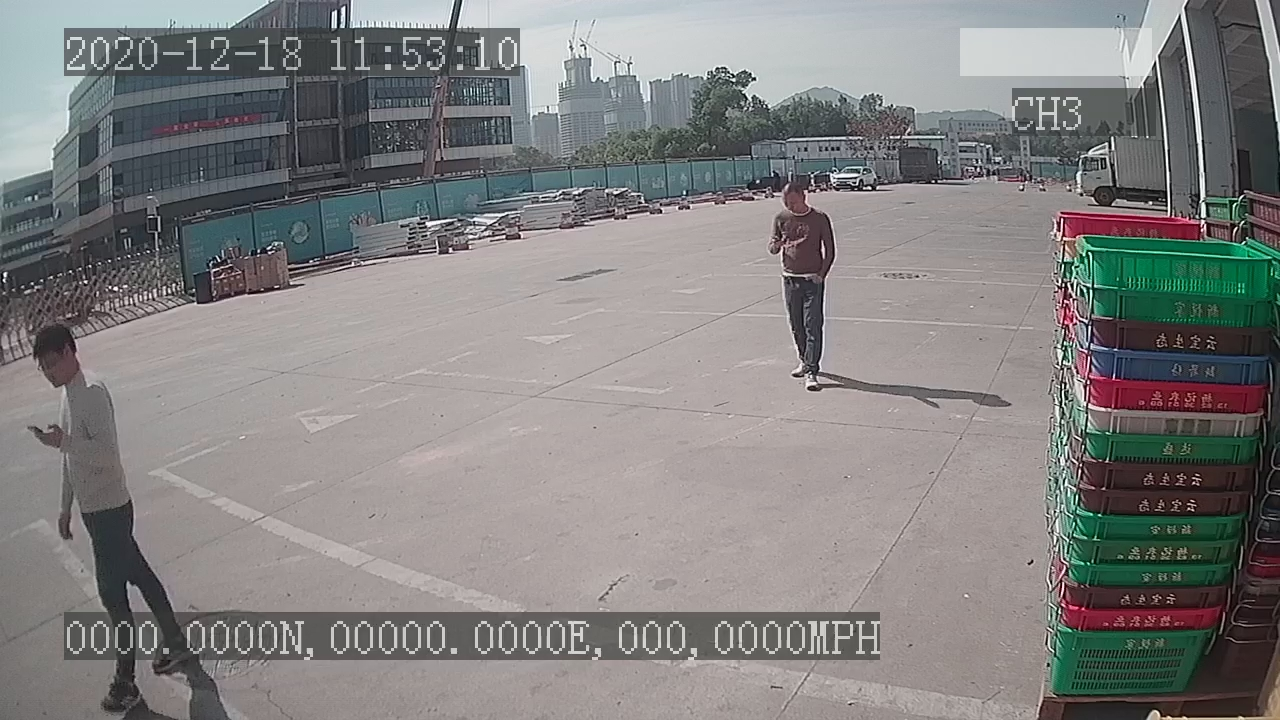person: (761, 174, 836, 397)
